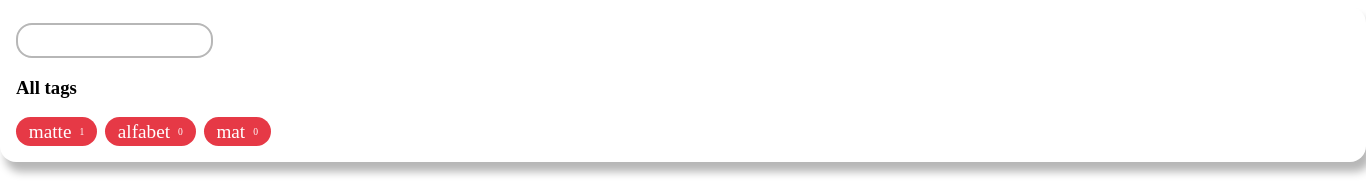
Test case: Other tests › Filtering tags on name
Expected: the link "alfabet 0" is shown, [105,117,196,146]
Type "ma" into the field named "tag-input".
click(114, 40); type("ma")  # box [16,23,213,58]
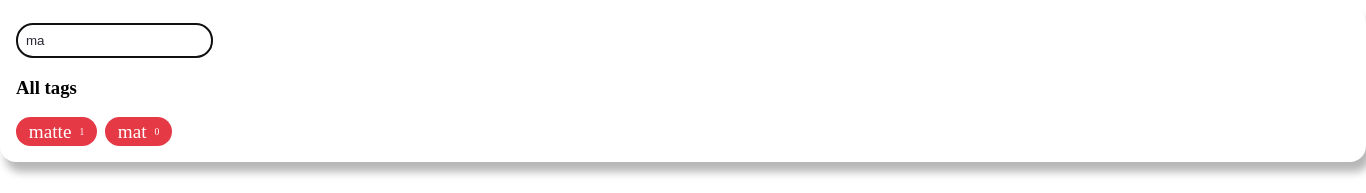
Expected: the link "matte 1" is shown, [16,117,97,146]
Expected: the link "mat 0" is shown, [105,117,172,146]
Expected: the link "alfabet" is gone
